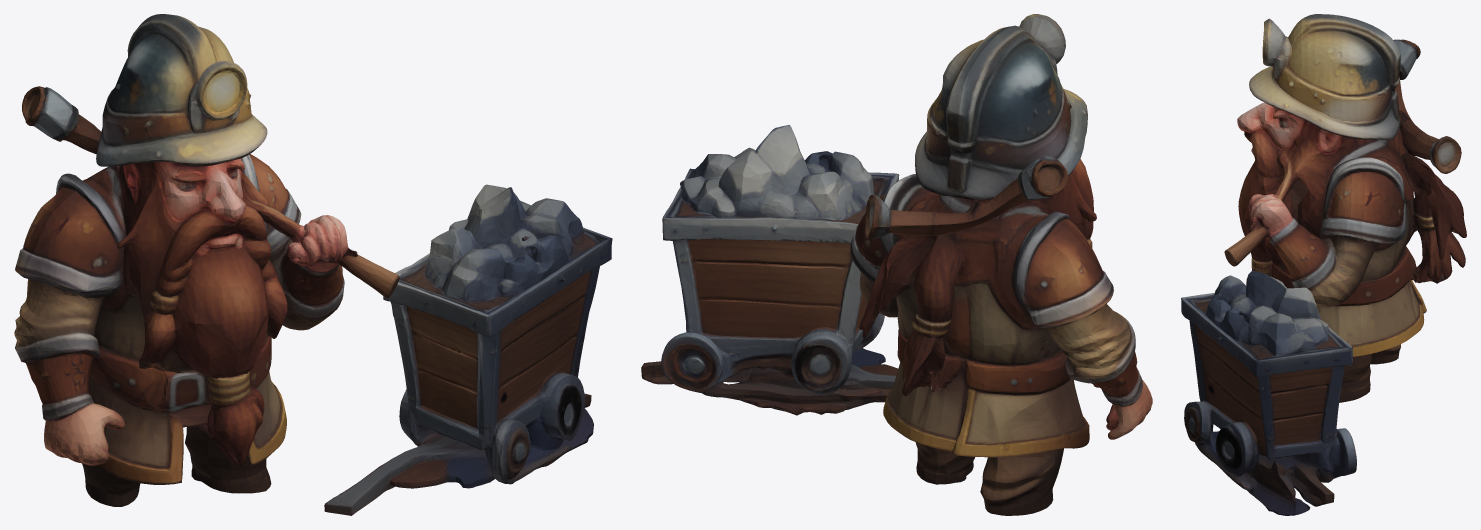
The model's file is dwarf.glb.
3 views of the same model, side by side, from view 1: azimuth 30°, elevation 25°; view 2: azimuth 150°, elevation 25°; view 3: azimuth 270°, elevation 25° (orthographic). The views are drawn at different scales.
Parts seen in each view (by area): view 1: world; view 2: world; view 3: world.
Part boxes in pixels (x1=…): world: x1=14, y1=14, x2=612, y2=515; world: x1=641, y1=14, x2=1152, y2=515; world: x1=1181, y1=14, x2=1466, y2=515.
Size of the model in its own units: 0.9978 by 0.8578 by 0.612.
Materials: 1 (1 with a texture image).
